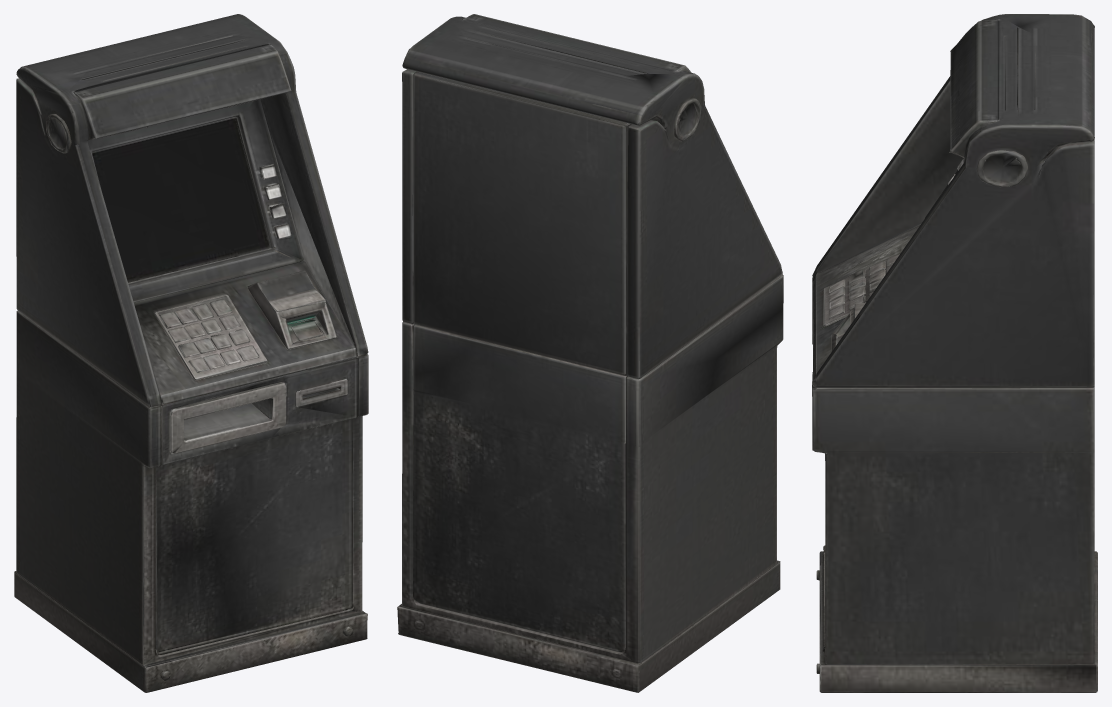
File: p7-atm-kiosk-t25.glb
3 renders of one model, left to right at view 1: azimuth 30°, elevation 25°; view 2: azimuth 150°, elevation 25°; view 3: azimuth 270°, elevation 25°, orthographic. The views are drawn at different scales.
Parts seen in each view (by area): view 1: p7-atm-kiosk-t25; view 2: p7-atm-kiosk-t25; view 3: p7-atm-kiosk-t25.
Boxes of the visible parts, box(x1,y1,x2,y2) form: p7-atm-kiosk-t25: box(14, 14, 368, 692); p7-atm-kiosk-t25: box(397, 14, 783, 692); p7-atm-kiosk-t25: box(812, 14, 1097, 692).
Size of the model in its own units: 0.7 by 1.6 by 0.732.
Materials: 1 (1 with a texture image).
